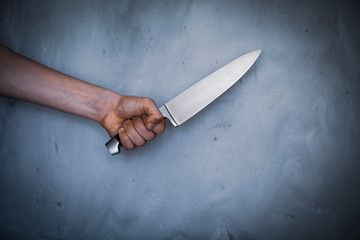knife: (133, 48, 267, 125)
